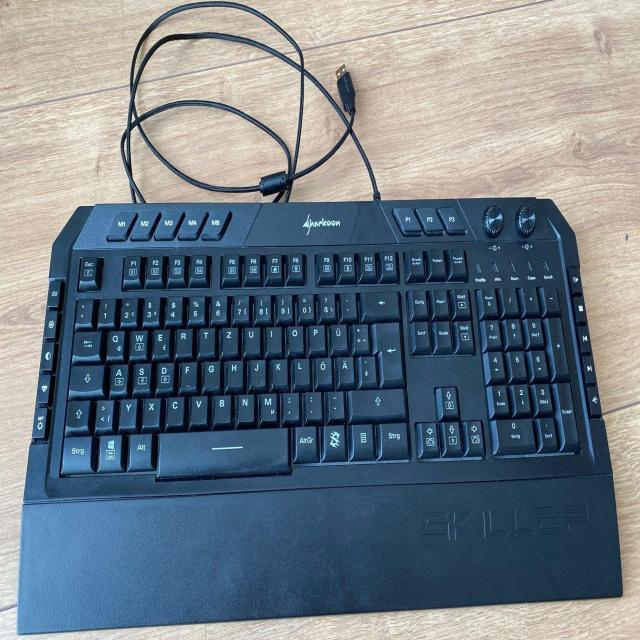0: (296, 289, 313, 318)
1: (96, 294, 114, 322)
2: (118, 293, 136, 321)
3: (141, 292, 158, 321)
4: (164, 292, 182, 320)
5: (186, 292, 204, 321)
6: (209, 291, 227, 320)
7: (231, 290, 248, 320)
8: (252, 290, 270, 321)
9: (275, 289, 292, 319)
a: (108, 361, 127, 391)
accent: (339, 288, 355, 316)
ae: (336, 353, 353, 382)
alt-left: (126, 429, 152, 468)
altgr-right: (292, 422, 317, 460)
b: (212, 391, 230, 421)
c: (164, 393, 183, 423)
caret: (74, 295, 91, 322)
comma: (280, 389, 298, 418)
d: (154, 358, 173, 388)
del: (360, 287, 398, 316)
e: (151, 326, 169, 354)
enter: (372, 319, 402, 381)
f: (178, 358, 196, 387)
g: (201, 358, 219, 387)
h: (225, 356, 242, 385)
hash: (357, 352, 375, 383)
i: (264, 323, 281, 350)
j: (248, 356, 265, 385)
k: (269, 356, 287, 384)
keyboard: (28, 203, 599, 503)
l: (291, 355, 308, 383)
less: (93, 395, 112, 427)
m: (258, 390, 276, 420)
minus: (326, 388, 343, 417)
n: (236, 391, 254, 421)
o: (285, 322, 303, 350)
oe: (313, 354, 331, 383)
p: (307, 321, 324, 349)
plus: (350, 320, 367, 350)
point: (303, 388, 320, 417)
q: (104, 327, 124, 355)
r: (174, 325, 192, 353)
s: (131, 359, 150, 389)
shift-left: (64, 397, 89, 427)
shift-lock: (67, 362, 103, 391)
shift-right: (348, 386, 405, 415)
space: (156, 425, 288, 475)
ss: (317, 288, 334, 317)
strg-left: (59, 433, 92, 472)
strg-right: (376, 419, 408, 457)
t: (197, 324, 214, 352)
tab: (71, 328, 101, 355)
u: (243, 324, 260, 352)
ue: (329, 321, 347, 350)
v: (189, 391, 207, 422)
w: (128, 326, 146, 356)
x: (141, 394, 159, 424)
y: (117, 395, 136, 426)
z: (220, 323, 238, 352)
